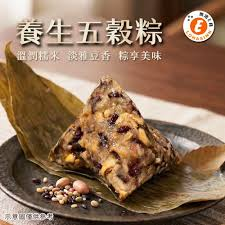zongzi: (51, 77, 179, 200)
